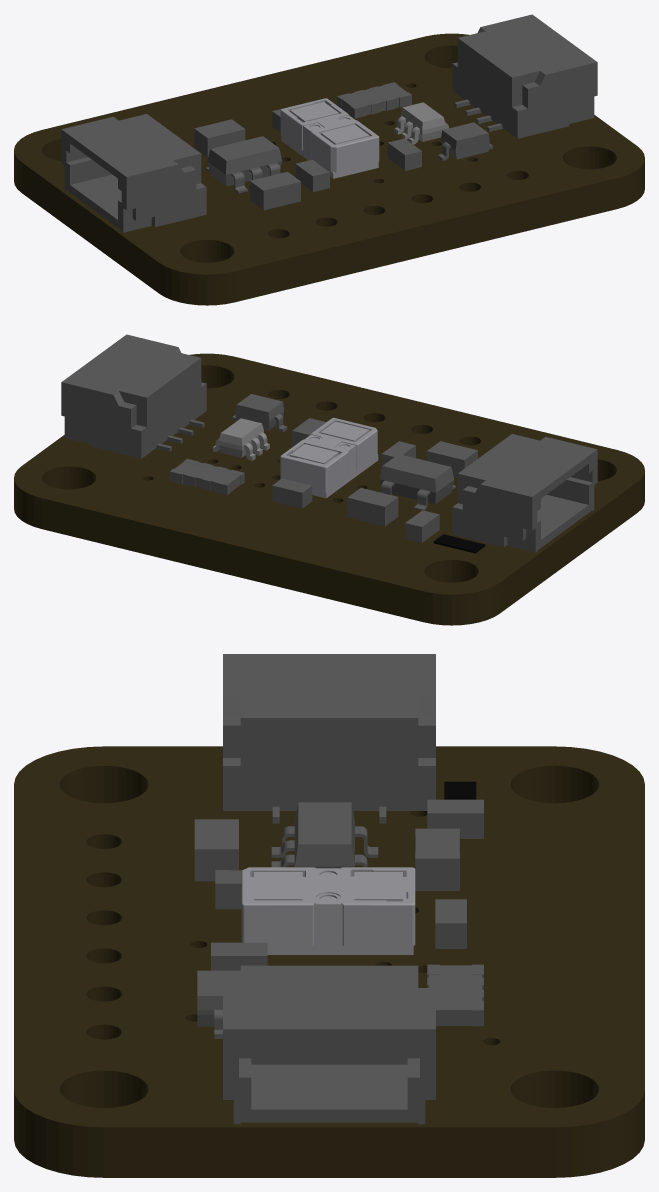
The model's file is adafruit-vl53l1x.glb.
The picture shows the model from 3 angles, top to bottom: view 1: azimuth 30°, elevation 25°; view 2: azimuth 150°, elevation 25°; view 3: azimuth 270°, elevation 25°; orthographic projection. The views are drawn at different scales.
Parts seen in each view (by area): view 1: adafruit-vl53l1x; view 2: adafruit-vl53l1x; view 3: adafruit-vl53l1x.
Boxes of the visible parts, bbox=[...] form: adafruit-vl53l1x: bbox=[14, 14, 644, 305]; adafruit-vl53l1x: bbox=[14, 334, 644, 625]; adafruit-vl53l1x: bbox=[14, 654, 644, 1177].
Bounding box in the file's own units: 25.4 × 4.53 × 17.78.
